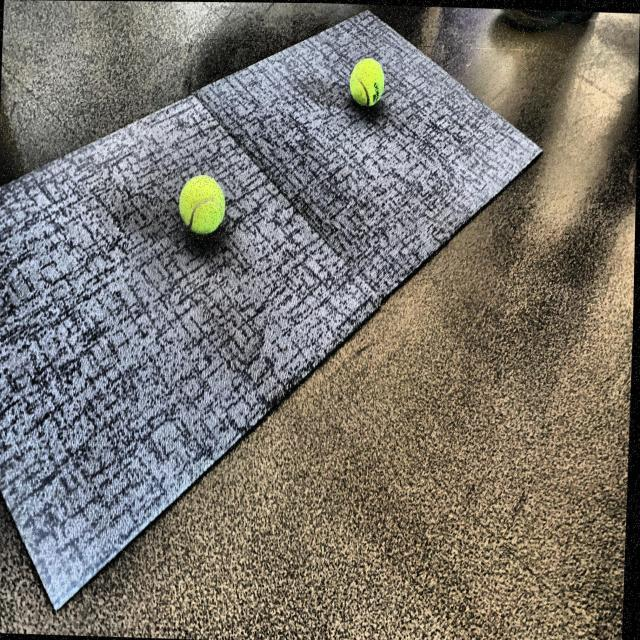tennis-ball: (178, 172, 230, 242), (349, 58, 387, 110)
